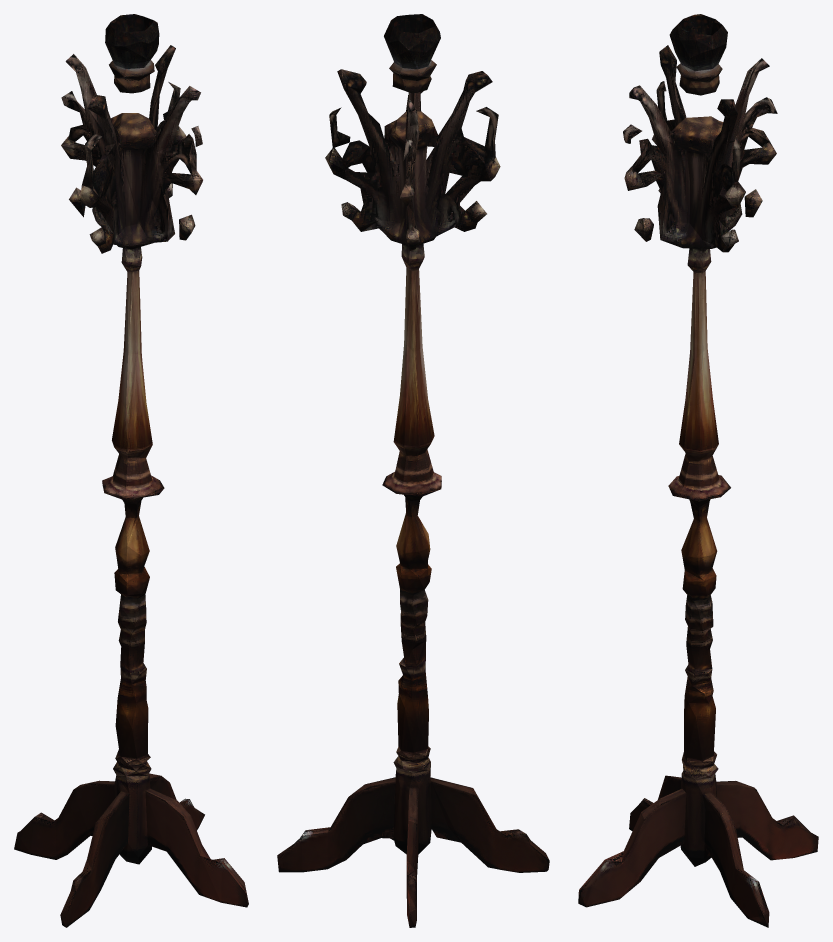
Rendered from wooden-coat-rack-vintage.jpeg.glb.
3 views of the same model, side by side, from view 1: azimuth 30°, elevation 25°; view 2: azimuth 150°, elevation 25°; view 3: azimuth 270°, elevation 25° (orthographic).
Visible parts, largest first — view 1: world; view 2: world; view 3: world.
Part boxes in pixels (bbox=[...]): world: bbox=[14, 14, 248, 927]; world: bbox=[277, 14, 549, 927]; world: bbox=[578, 14, 818, 927].
Bounding box in the file's own units: 0.2567 × 1 × 0.255.
Materials: 1 (1 with a texture image).
